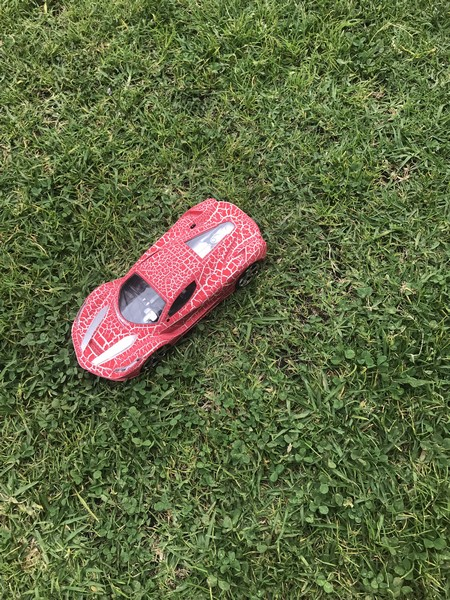RC: (70, 197, 269, 384)
